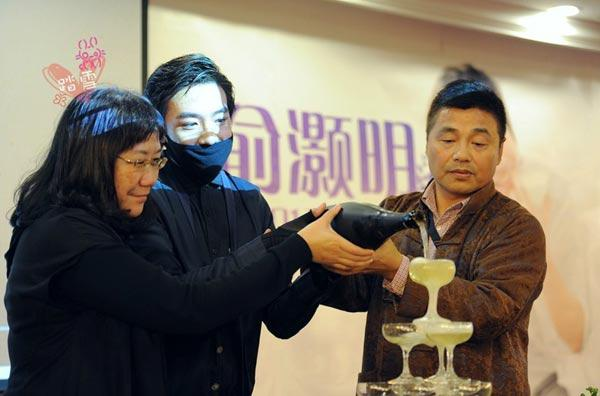NONE: (430, 123, 494, 191), (118, 141, 165, 221)
WRONG: (161, 103, 247, 189)
